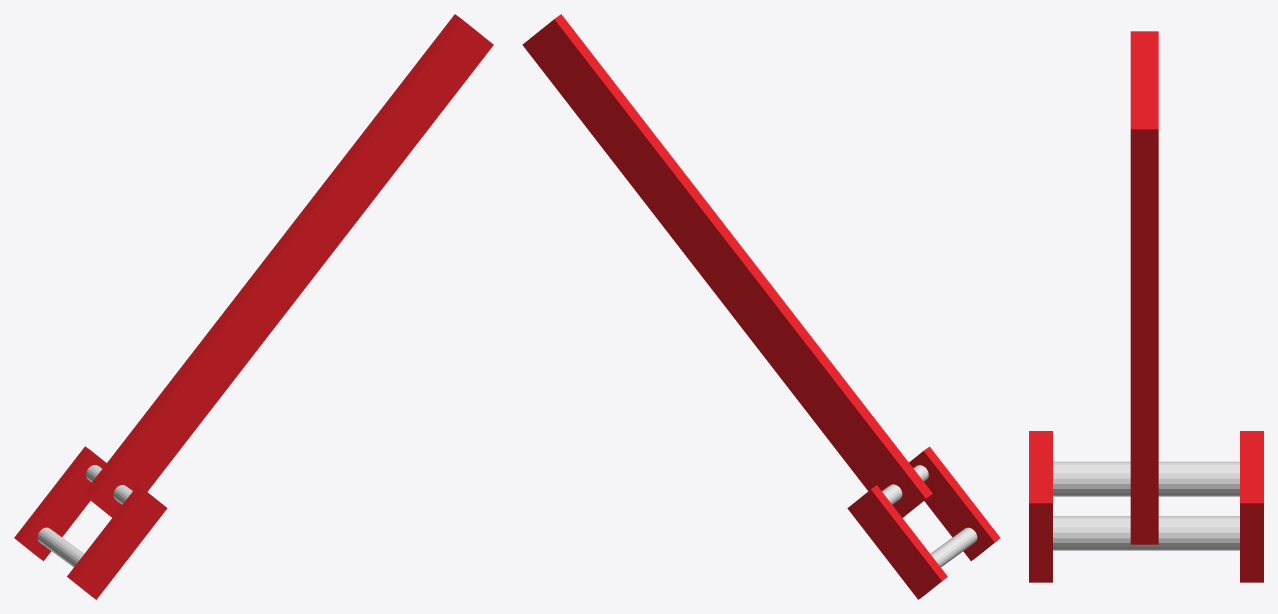
The model's file is gate.obj.
The picture shows the model from 3 angles, left to right: view 1: azimuth 30°, elevation 25°; view 2: azimuth 150°, elevation 25°; view 3: azimuth 270°, elevation 25°; orthographic projection. The views are drawn at different scales.
Parts seen in each view (by area): view 1: user; view 2: user; view 3: user.
Boxes of the visible parts, x1,y1,x2,y2 form: user: (14, 14, 493, 599); user: (522, 14, 1000, 599); user: (1029, 31, 1263, 582).
Bounding box in the file's own units: 147 × 147 × 33.5.
Materials: 2 (2 with a texture image).
